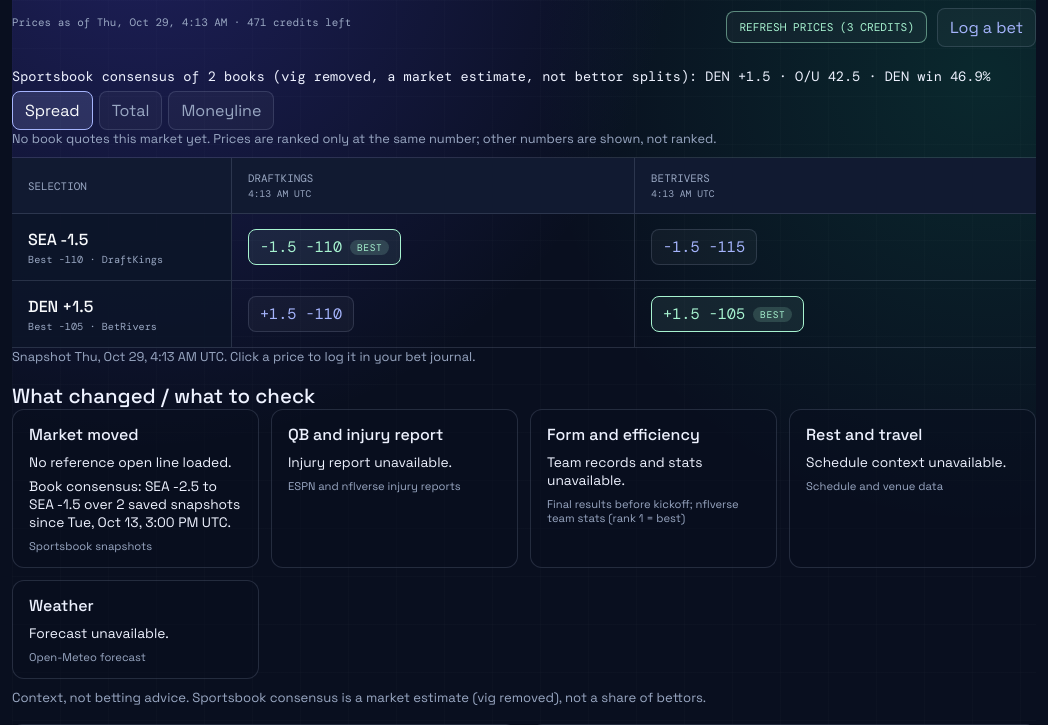
it: LinesPanel › refreshes prices on request and explains when nothing was fetched
Click the button "Refresh prices (3 credits)" at (827, 27), box top-left (726, 11), bottom-right (927, 43)
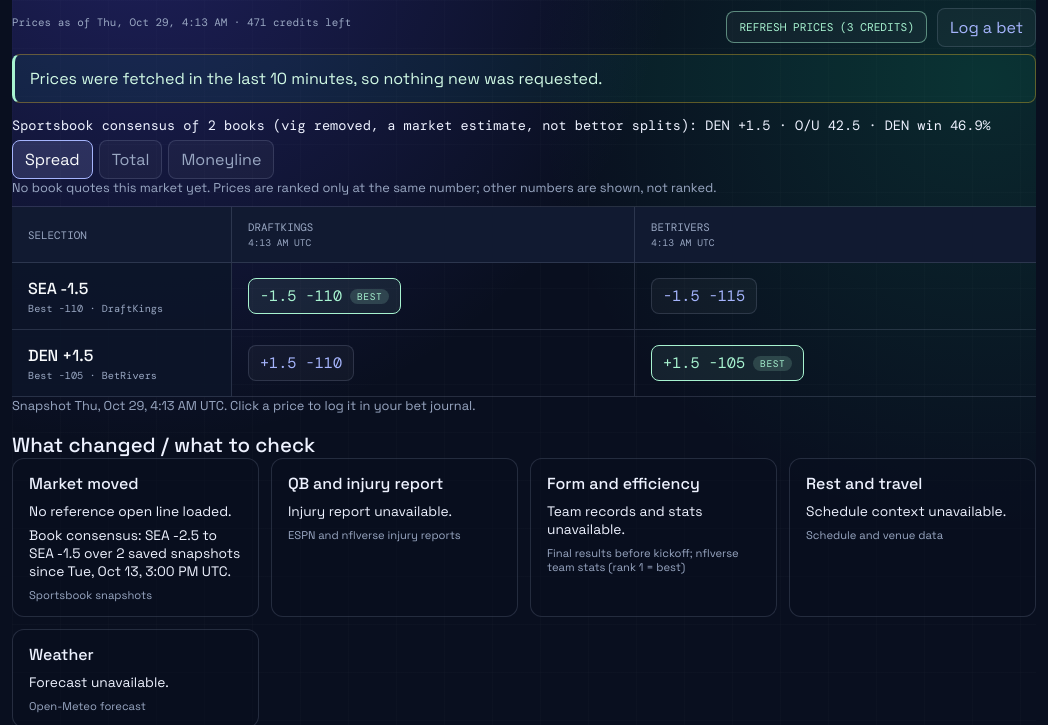
Expected: the message shows "fetched in the last 10 minutes", top-left (30, 68), bottom-right (602, 89)
